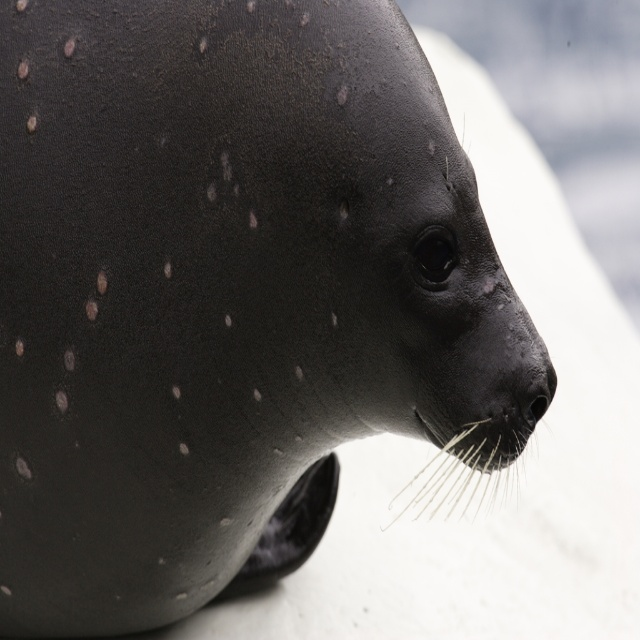Harbor seal: (0, 0, 558, 639)
